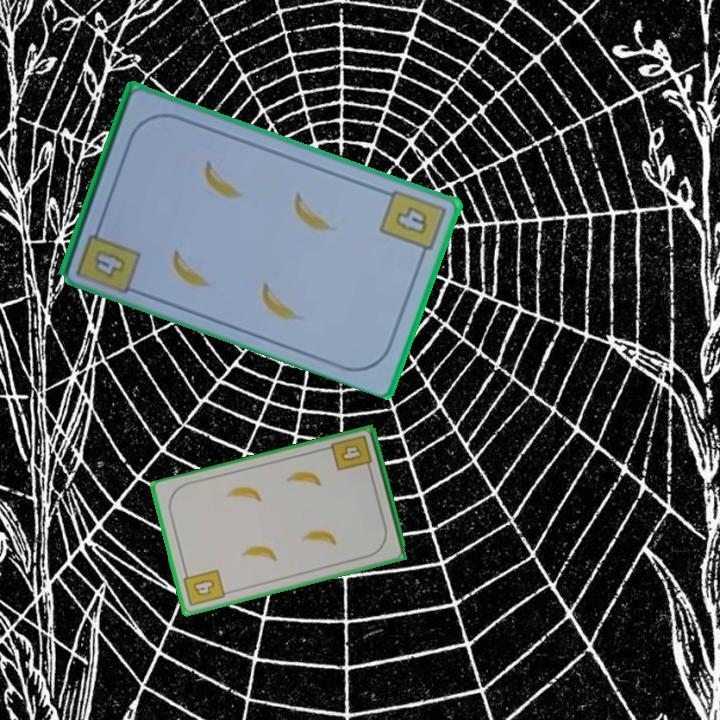4b: (376, 185, 449, 262), (180, 566, 228, 610), (328, 432, 375, 476), (91, 245, 130, 281)
